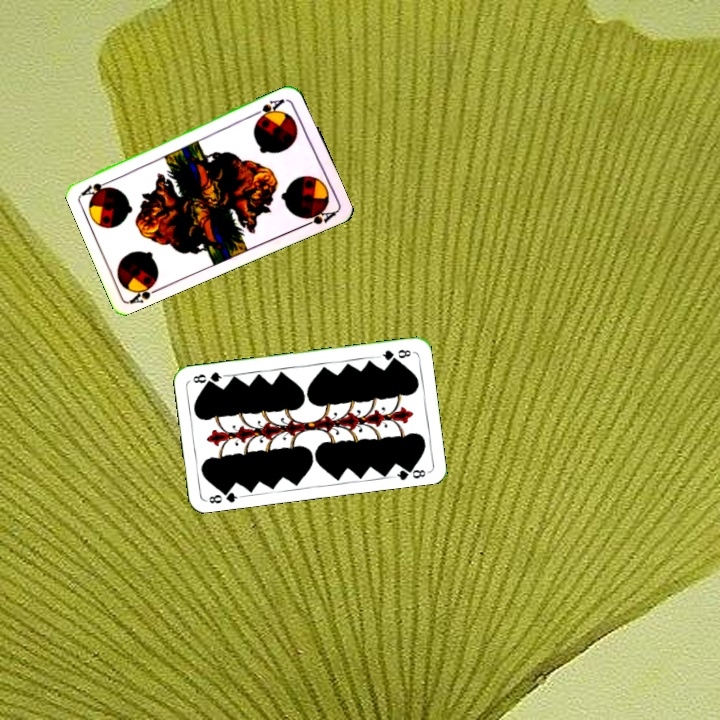G8: (203, 485, 244, 506), (375, 345, 414, 363)
SA: (126, 276, 165, 306), (251, 95, 289, 122)
